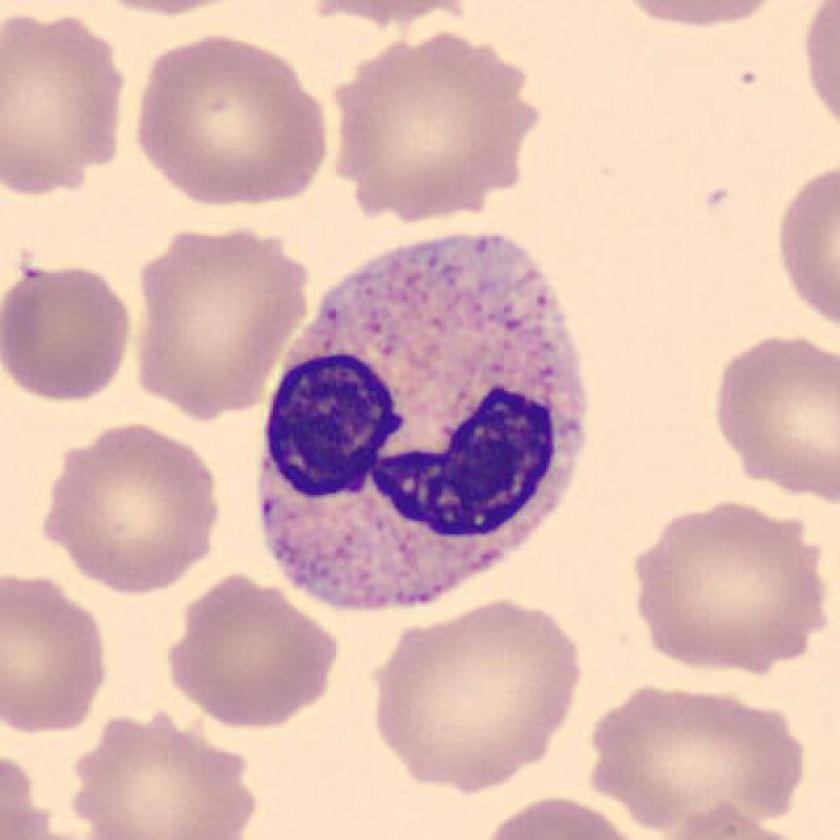neutrophil: (255, 238, 587, 612)
